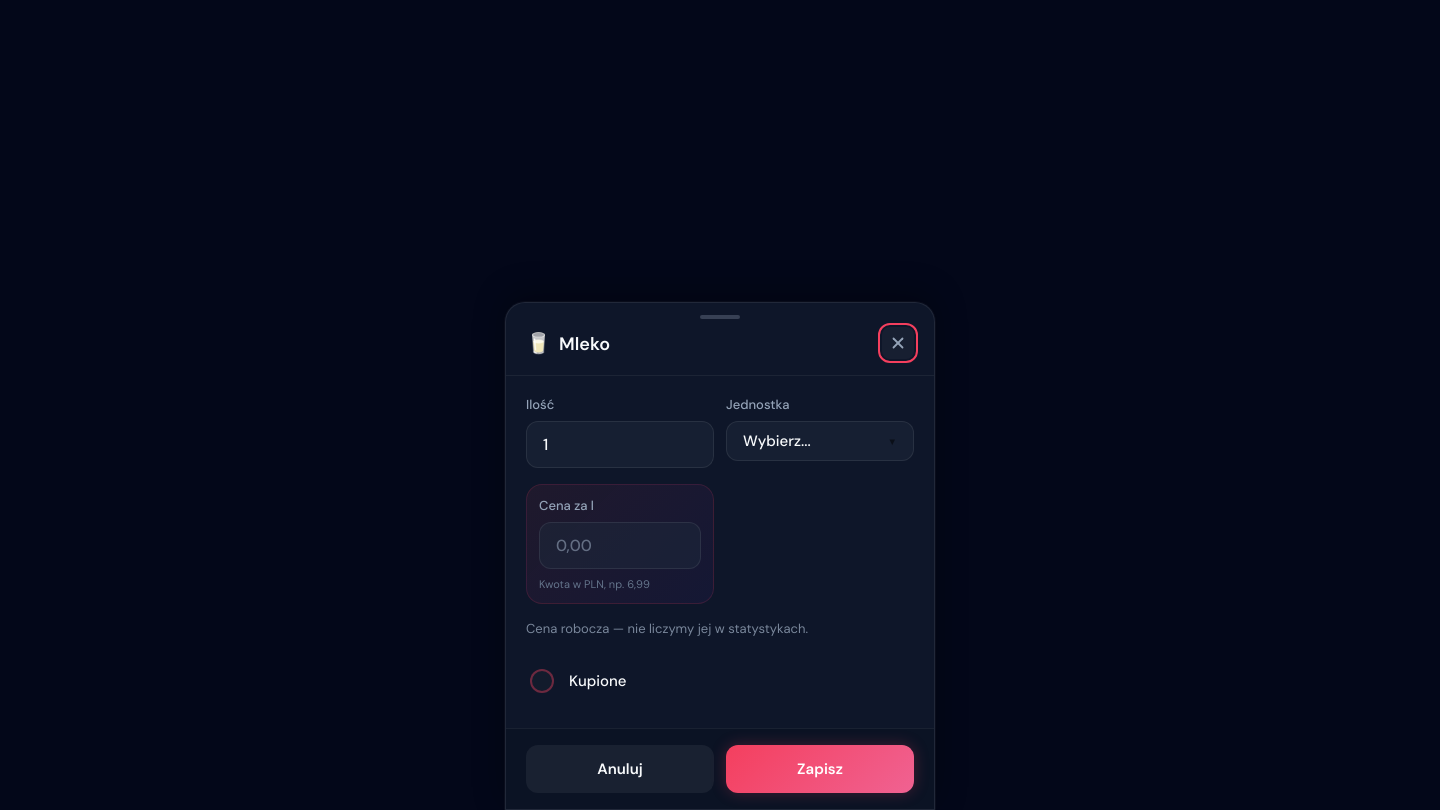
ItemBottomSheet › Error handling › should display error message on save failure
Click the button "Zapisz" at point(820, 769), box [726,745,914,793]
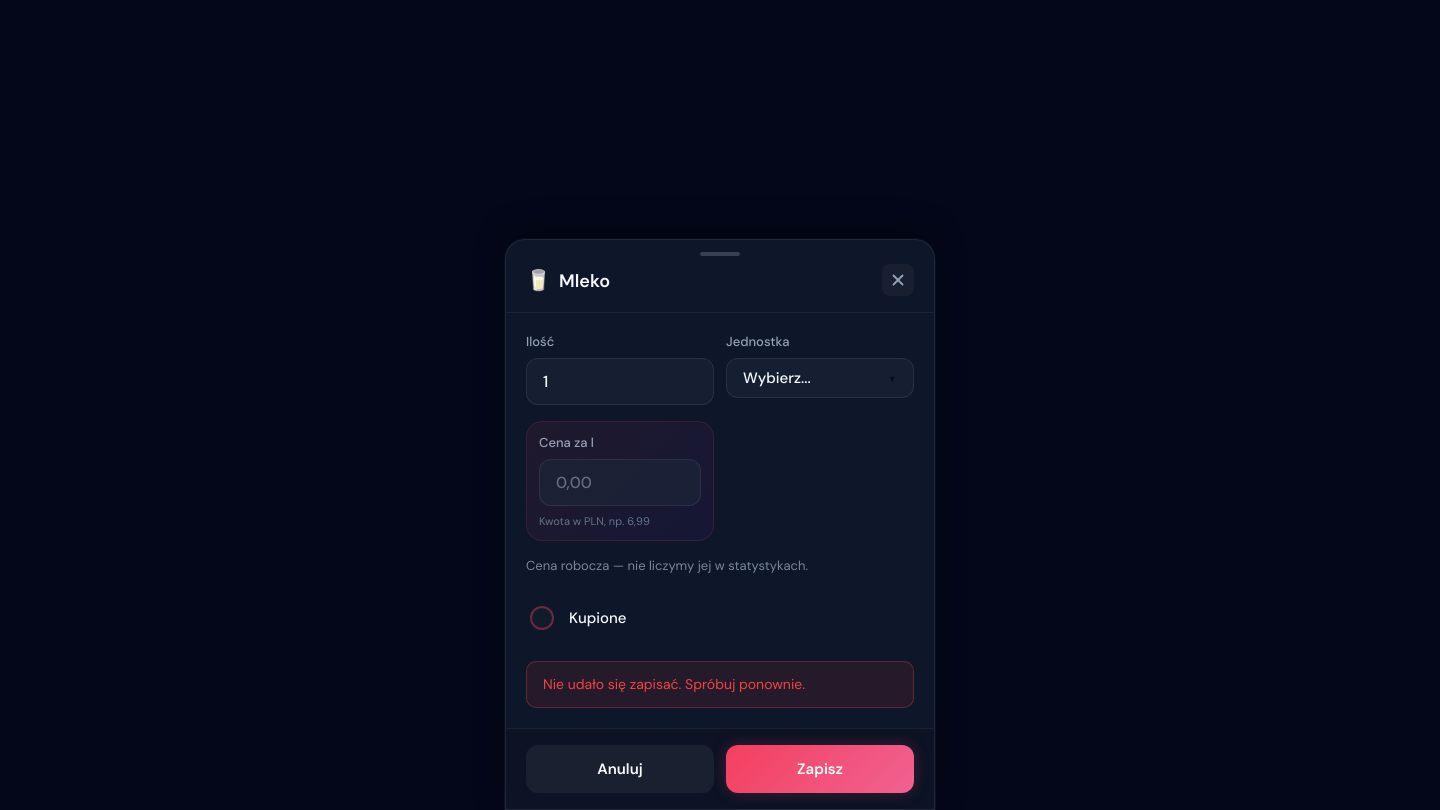
Expected: the text "Nie udało się zapisać. Spróbuj ponownie." is shown, [526,661,914,708]
